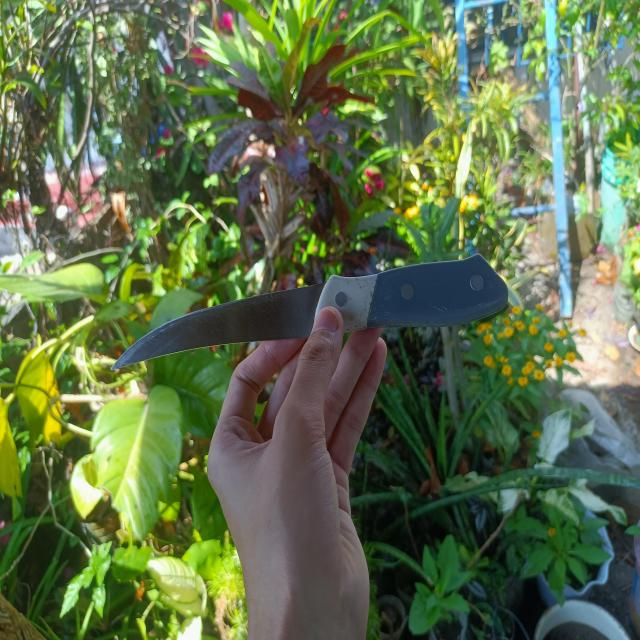knife: (111, 254, 509, 370)
